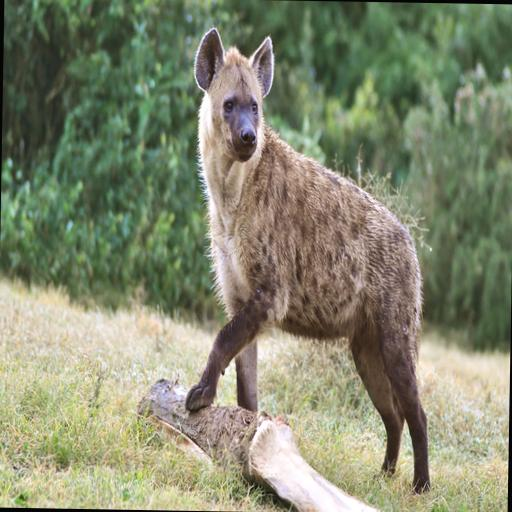hyenas: (174, 20, 486, 468)
